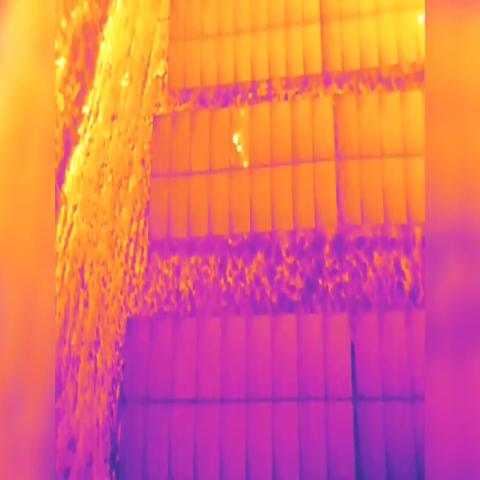fault: (235, 145, 243, 153), (233, 134, 239, 143), (244, 161, 248, 170)
